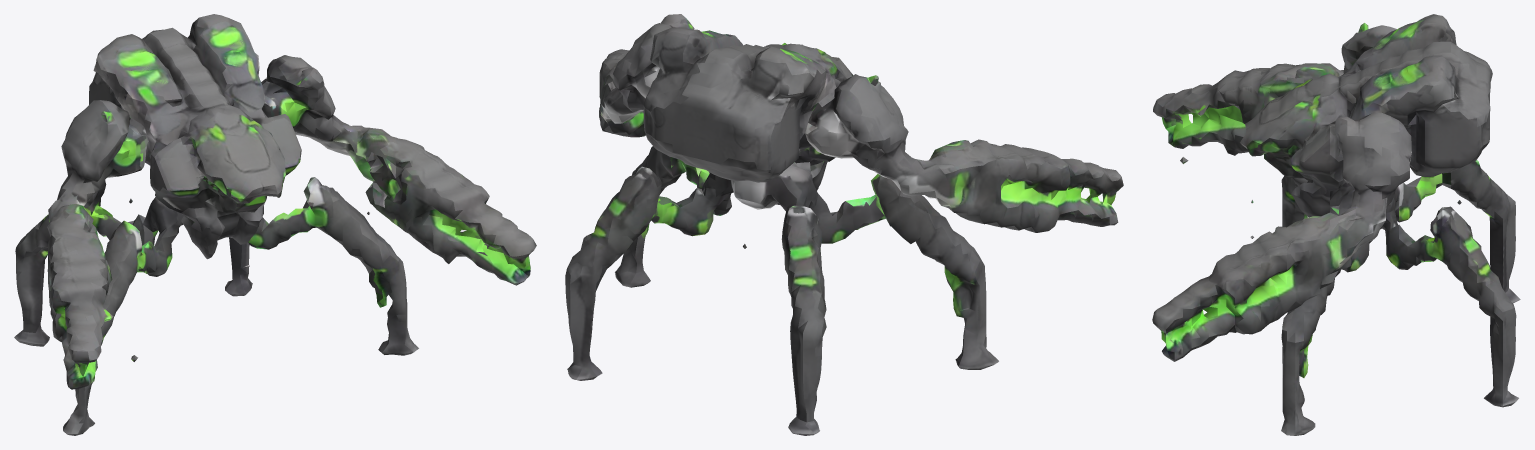
Rendered from Harvester.glb.
3 views of the same model, side by side, from view 1: azimuth 30°, elevation 25°; view 2: azimuth 150°, elevation 25°; view 3: azimuth 270°, elevation 25° (orthographic). The views are drawn at different scales.
Parts seen in each view (by area): view 1: tmprz6rgoi8.ply; view 2: tmprz6rgoi8.ply; view 3: tmprz6rgoi8.ply.
Part boxes in pixels (x1,y1,x2,y2): tmprz6rgoi8.ply: [14, 14, 536, 435]; tmprz6rgoi8.ply: [565, 14, 1123, 435]; tmprz6rgoi8.ply: [1152, 14, 1520, 435].
Size of the model in its own units: 1.94 by 1.24 by 1.32.
1 material, 1 textured.
